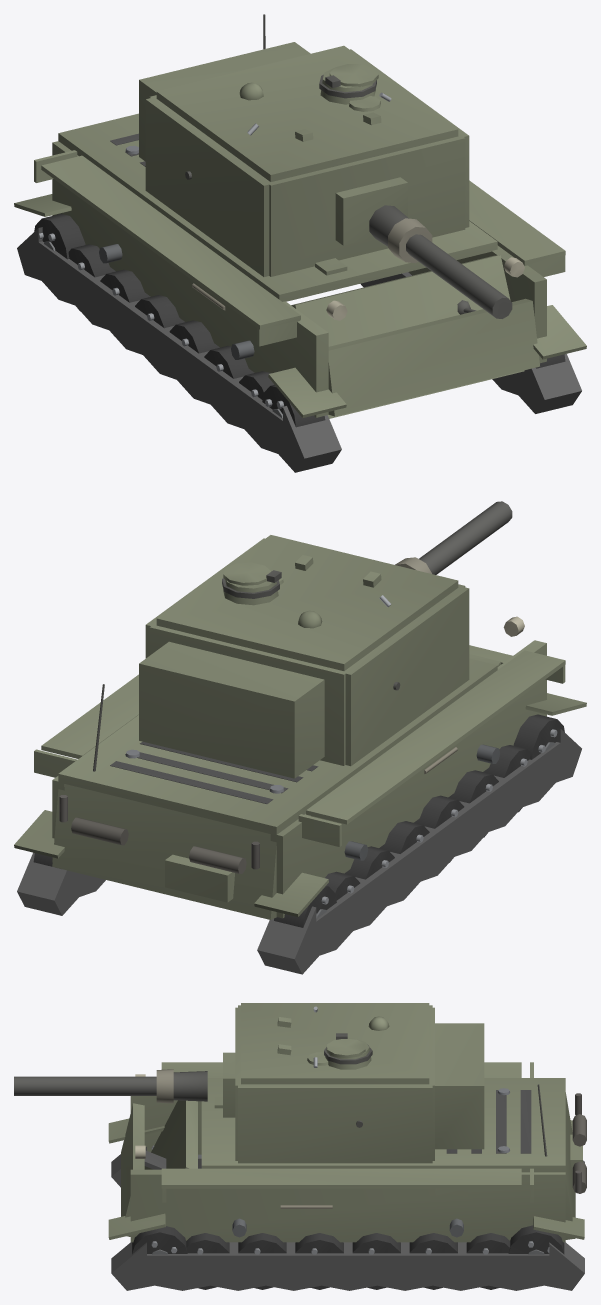
The picture shows the model from 3 angles, top to bottom: view 1: azimuth 30°, elevation 25°; view 2: azimuth 150°, elevation 25°; view 3: azimuth 270°, elevation 25°; orthographic projection. The views are drawn at different scales.
Parts seen in each view (by area): view 1: hullSide, turretRoof, tracks, turretFront, lowerPlate, turretSide, hullTop, glacis, barrel, mantlet, wheel7, wheel1 (+6 smaller); view 2: hullSide, turretRoof, tracks, turretFront, hullRear, hullTop, turretSide, turretRear, barrel, wheel6, wheel4, wheel3 (+5 smaller); view 3: hullSide, tracks, turretSide, turretRoof, hullTop, turretFront, barrel, glacis, hullRear, lowerPlate, wheel14, wheel15 (+8 smaller).
Part boxes in pixels (bbox=[...]): hullSide: bbox=[34, 141, 565, 417]; turretRoof: bbox=[156, 45, 458, 181]; tracks: bbox=[14, 194, 586, 472]; turretFront: bbox=[139, 42, 465, 276]; lowerPlate: bbox=[328, 298, 539, 416]; turretSide: bbox=[145, 49, 469, 276]; hullTop: bbox=[58, 113, 497, 301]; glacis: bbox=[291, 255, 524, 418]; barrel: bbox=[369, 205, 512, 318]; mantlet: bbox=[335, 177, 407, 245]; wheel7: bbox=[34, 214, 85, 259]; wheel1: bbox=[100, 269, 150, 302]; hullSide: bbox=[34, 616, 565, 918]; turretRoof: bbox=[156, 535, 458, 670]; tracks: bbox=[14, 693, 586, 974]; turretFront: bbox=[139, 584, 465, 778]; hullRear: bbox=[52, 684, 276, 919]; hullTop: bbox=[58, 658, 497, 835]; turretSide: bbox=[145, 538, 469, 766]; turretRear: bbox=[149, 623, 349, 765]; barrel: bbox=[395, 501, 512, 574]; wheel6: bbox=[513, 714, 564, 759]; wheel4: bbox=[448, 770, 498, 837]; wheel3: bbox=[414, 795, 464, 862]; hullSide: bbox=[130, 1062, 565, 1242]; tracks: bbox=[108, 1118, 584, 1290]; turretSide: bbox=[238, 1005, 432, 1163]; turretRoof: bbox=[241, 1003, 429, 1084]; hullTop: bbox=[201, 1078, 565, 1172]; turretFront: bbox=[235, 1007, 484, 1160]; barrel: bbox=[14, 1069, 207, 1103]; glacis: bbox=[144, 1097, 222, 1169]; hullRear: bbox=[537, 1084, 586, 1239]; lowerPlate: bbox=[121, 1103, 144, 1236]; wheel14: bbox=[132, 1226, 187, 1254]; wheel15: bbox=[508, 1225, 564, 1254].
Bounding box in the file's own units: 4.48 × 3.63 × 8.83.
